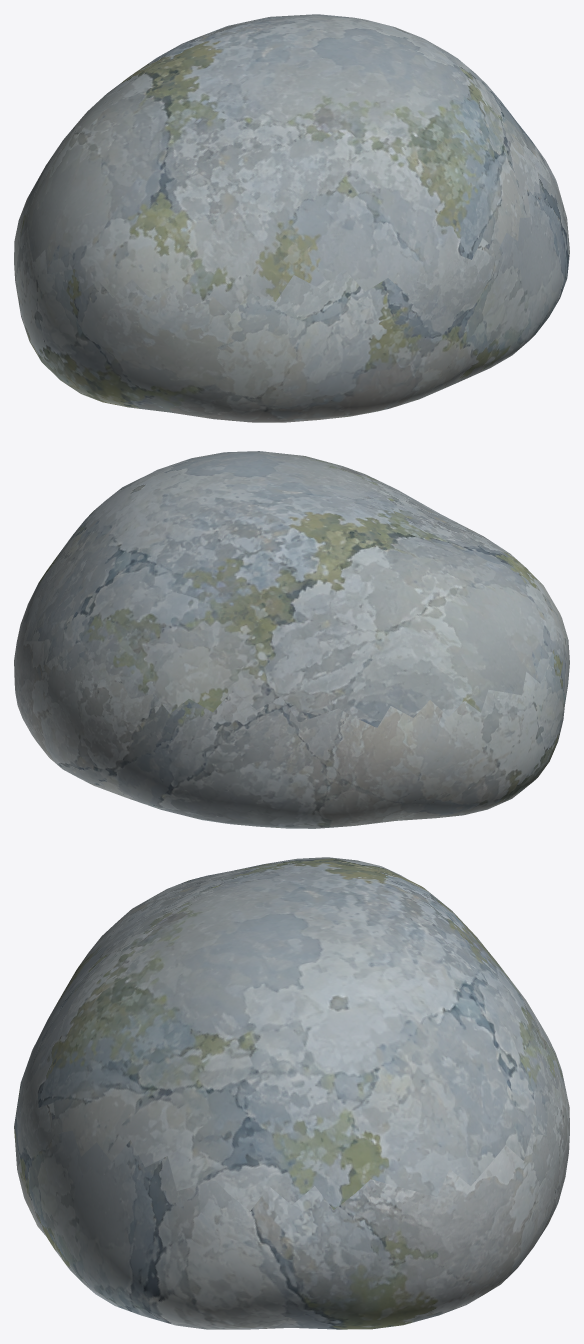
Rendered from SM_SmoothForestRock_01.fbx.
3 views of the same model, one above another, from view 1: azimuth 30°, elevation 25°; view 2: azimuth 150°, elevation 25°; view 3: azimuth 270°, elevation 25° (orthographic). The views are drawn at different scales.
Visible parts, largest first — view 1: SM_SmoothForestRock_01; view 2: SM_SmoothForestRock_01; view 3: SM_SmoothForestRock_01.
Part boxes in pixels (<box>): SM_SmoothForestRock_01: <box>14,14,569,422</box>; SM_SmoothForestRock_01: <box>14,451,569,828</box>; SM_SmoothForestRock_01: <box>14,857,569,1329</box>.
Bounding box in the file's own units: 2.76 × 2.27 × 1.48.
